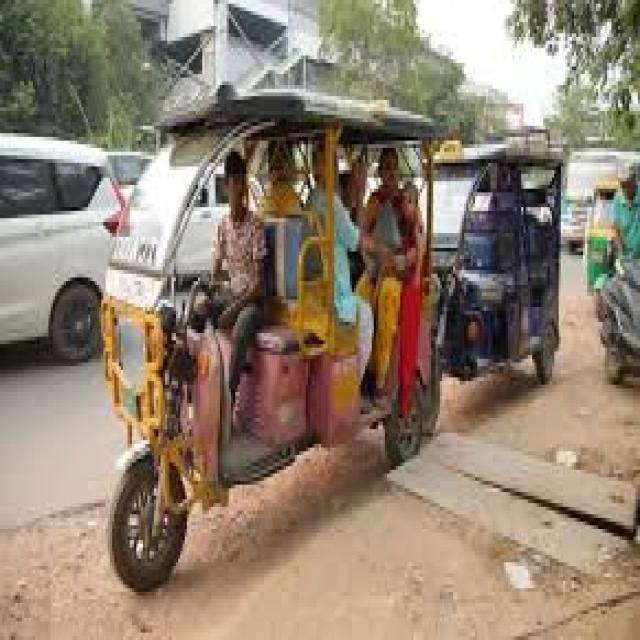car: (0, 133, 117, 363), (567, 148, 638, 203)
motorcycle: (598, 263, 638, 385)
person: (315, 148, 400, 377), (356, 148, 411, 392), (211, 152, 264, 403), (262, 141, 299, 215), (611, 174, 638, 259)
three wheeler: (106, 89, 433, 592), (433, 144, 561, 385), (585, 178, 616, 292)
